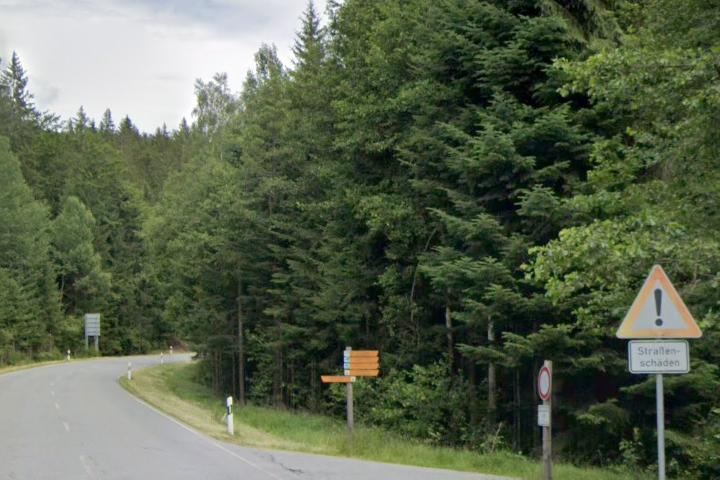traffic_sign: (611, 264, 704, 340), (537, 365, 550, 399)
